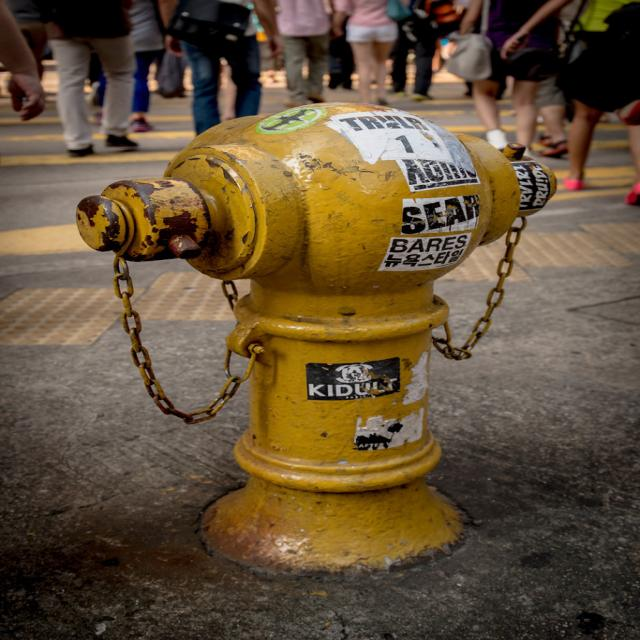fire_hydrant: (78, 99, 560, 581)
